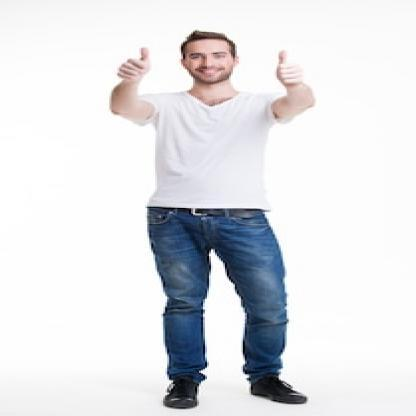thumb_up: (111, 45, 163, 86), (270, 49, 311, 91)
